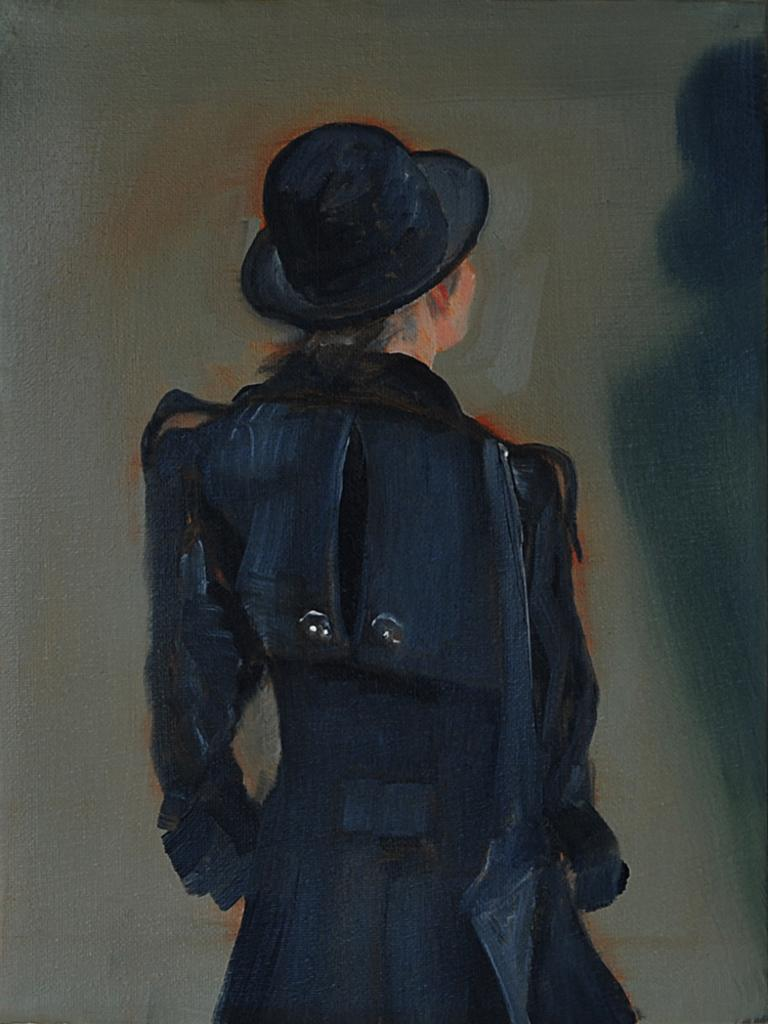Hat: (247, 126, 493, 340)
